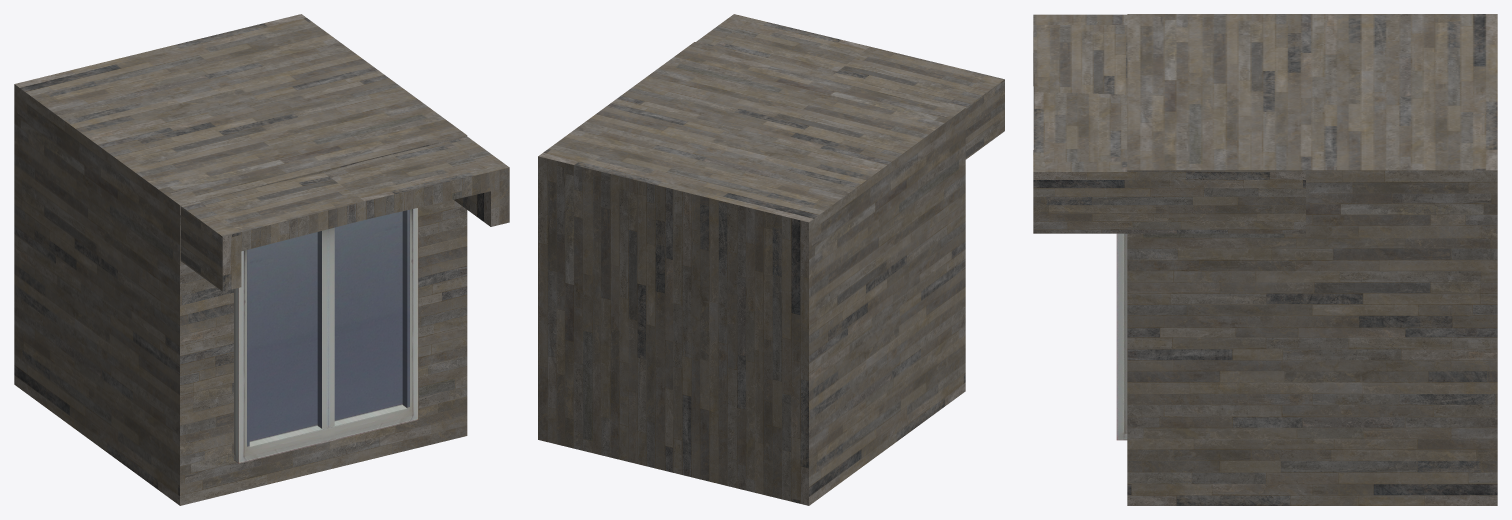
Rendered from single_sunSide.fbx.
3 views of the same model, side by side, from view 1: azimuth 30°, elevation 25°; view 2: azimuth 150°, elevation 25°; view 3: azimuth 270°, elevation 25° (orthographic). The views are drawn at different scales.
Parts seen in each view (by area): view 1: Cube.018; view 2: Cube.018; view 3: Cube.018.
Part boxes in pixels (left/top/right/bottom): Cube.018: left=14, top=14, right=509, bottom=505; Cube.018: left=538, top=14, right=1004, bottom=505; Cube.018: left=1033, top=14, right=1497, bottom=505.
Bounding box in the file's own units: 251 × 200 × 200.
